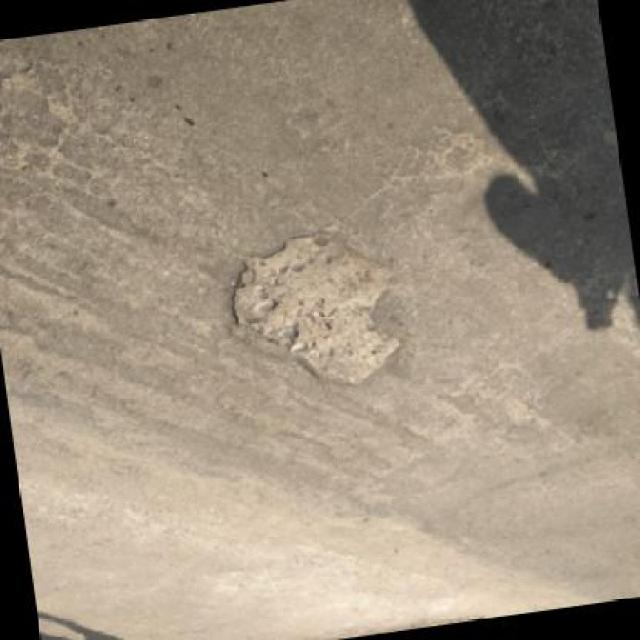pothole: (218, 222, 412, 406)
